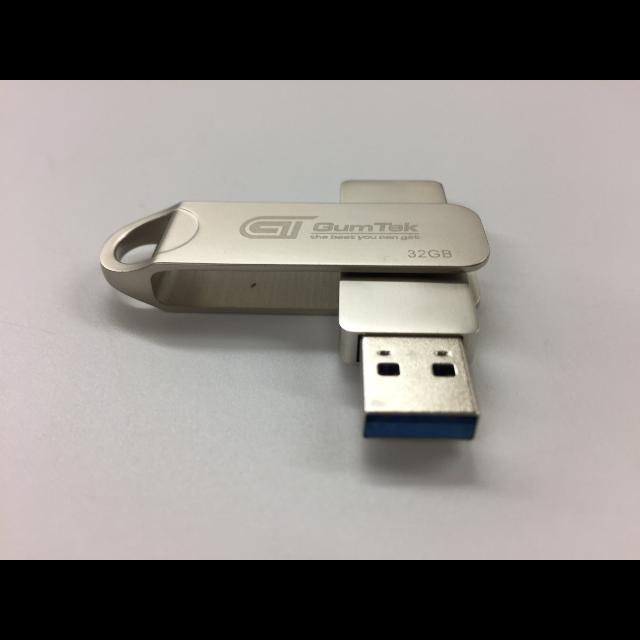USB-Flash-Drive: (339, 180, 479, 441)
